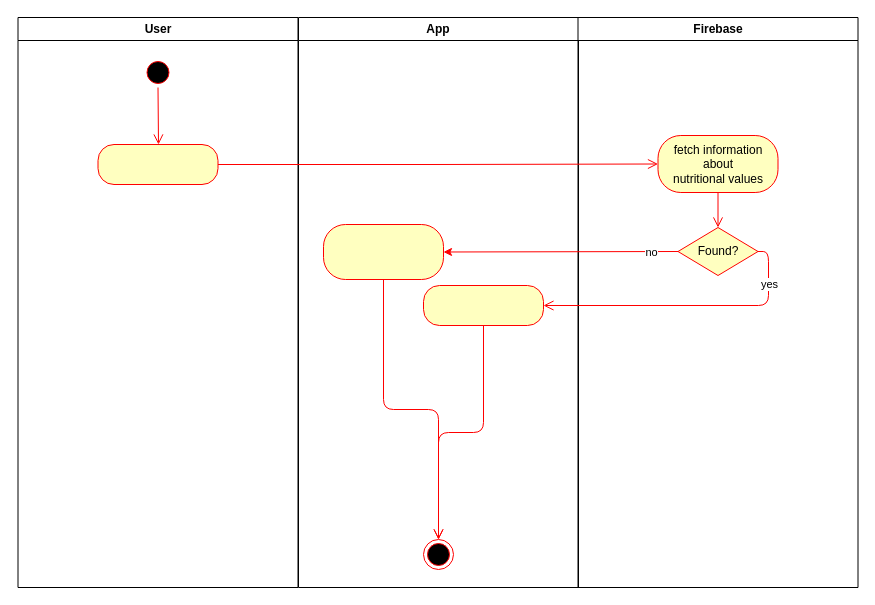
Image size: 875x605. Some labels were removed from this diagram. Each missing label, with the centre of its shape:
"list nutritional values" belongs at (483,305).
"opens product page" belongs at (157,164).
"show info that no nutritional values are present" belongs at (383,252).
